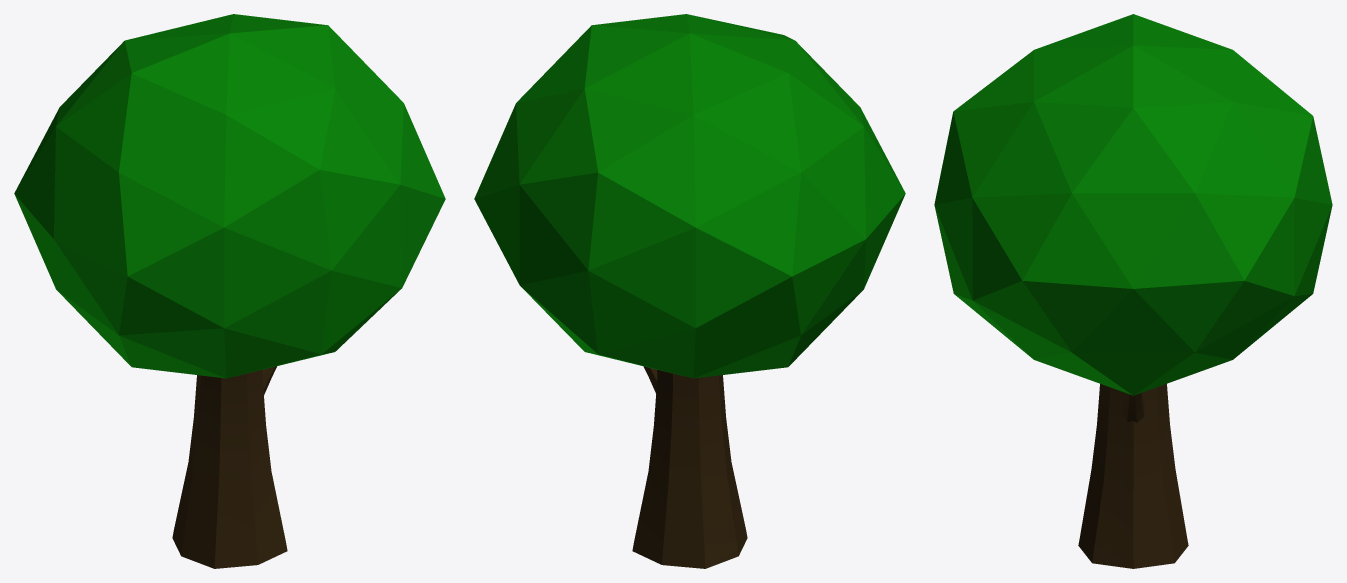
File: TreeGreen1.fbx
3 views of the same model, side by side, from view 1: azimuth 30°, elevation 25°; view 2: azimuth 150°, elevation 25°; view 3: azimuth 270°, elevation 25° (orthographic). The views are drawn at different scales.
Visible parts, largest first — view 1: TreeGreen1; view 2: TreeGreen1; view 3: TreeGreen1.
Boxes of the visible parts, <box> form: TreeGreen1: <box>14,14,445,568</box>; TreeGreen1: <box>474,14,905,568</box>; TreeGreen1: <box>934,14,1332,568</box>.
Size of the model in its own units: 1.6 by 2.21 by 1.6.
